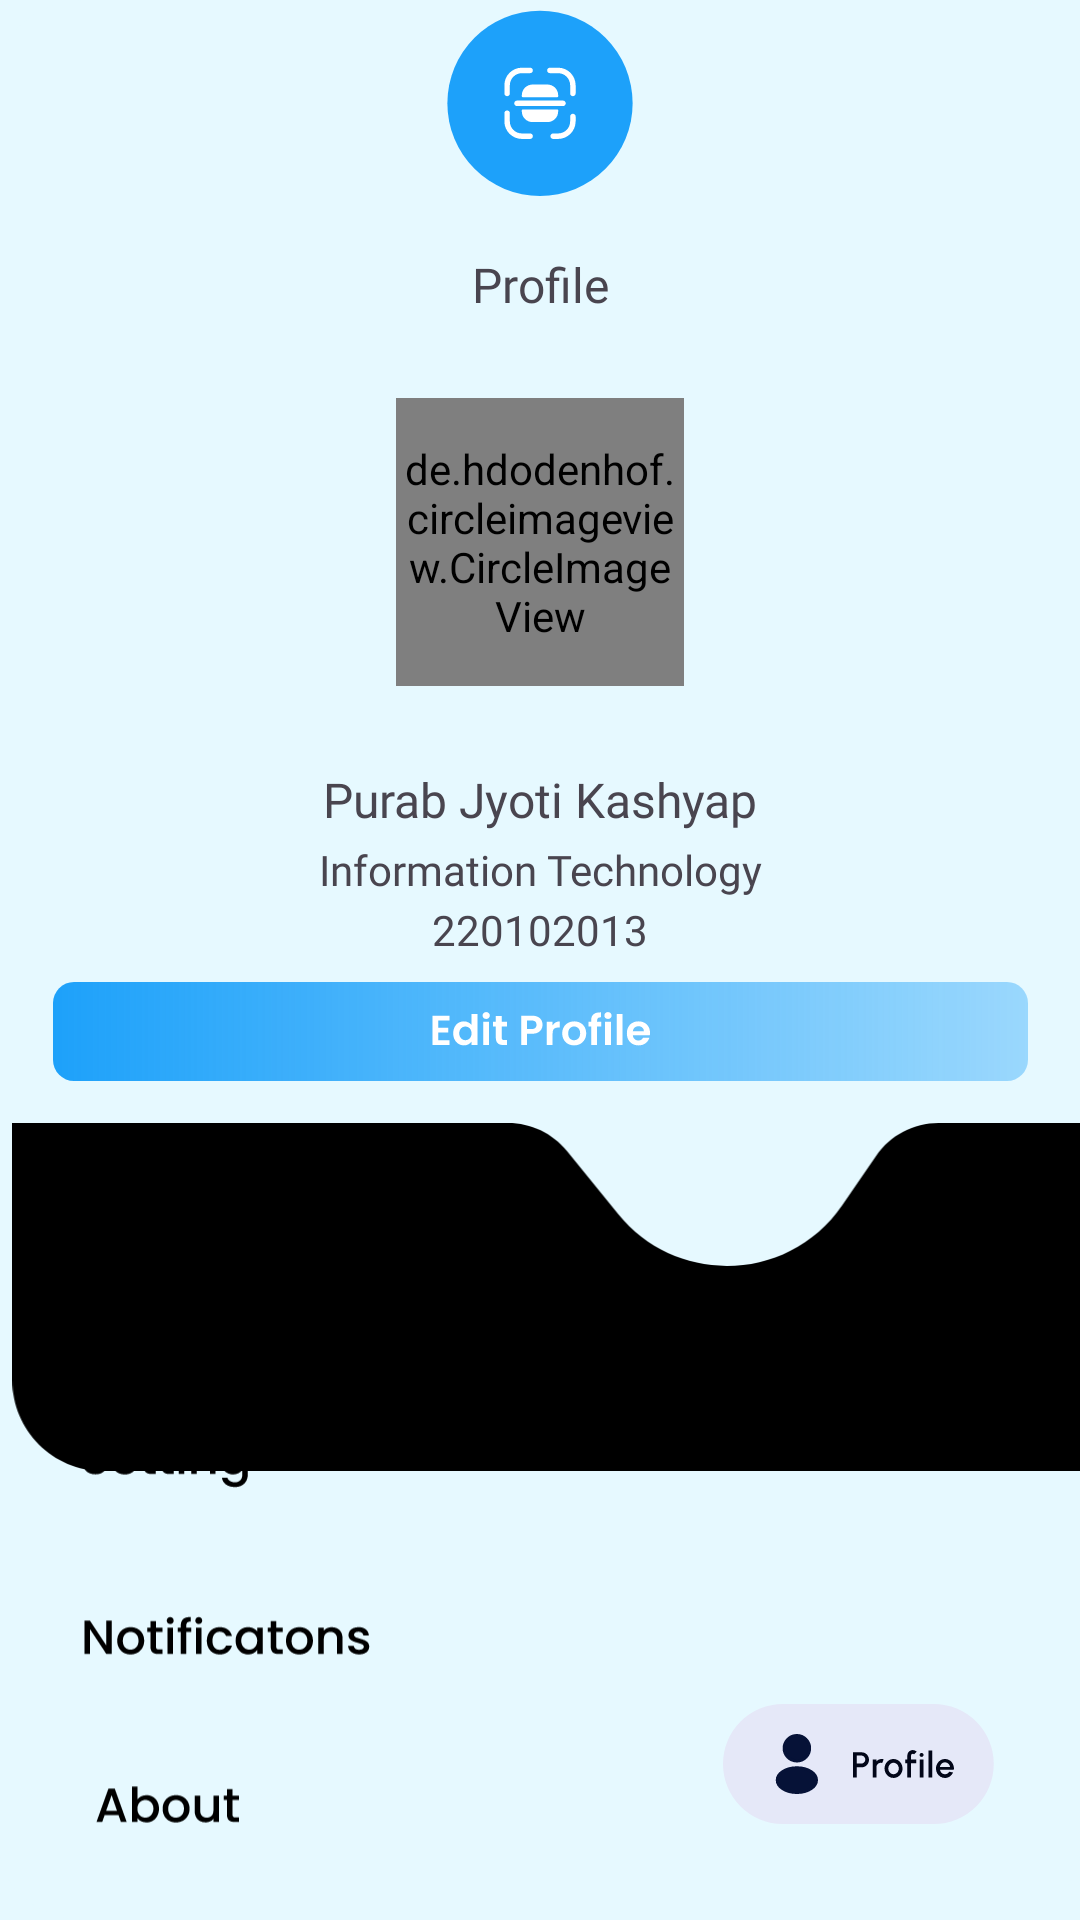

Icons on this 1080px x 1920px Android screen, each with its box as (x1, y1, x2, y2):
scan: (447, 10, 633, 196)
